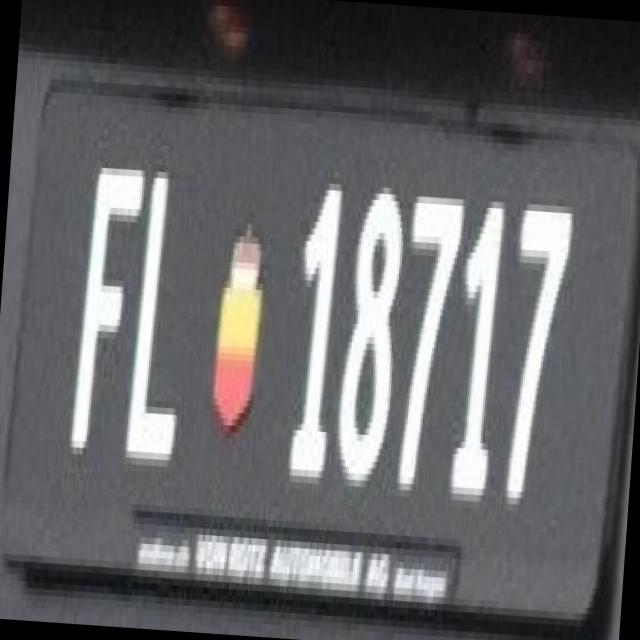1: (424, 172, 520, 502), (276, 155, 352, 478)
7: (486, 182, 580, 500), (386, 170, 466, 492)
8: (327, 158, 408, 482)
F: (52, 138, 150, 458)
L: (112, 143, 216, 462)
